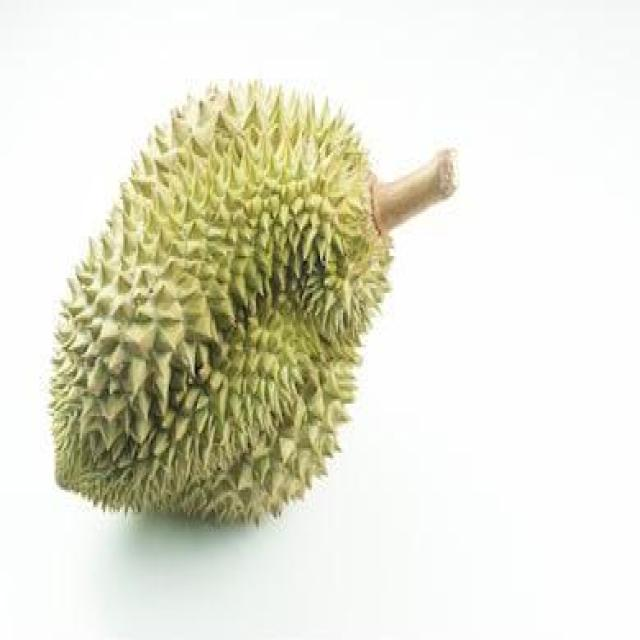immature: (46, 72, 397, 526)
